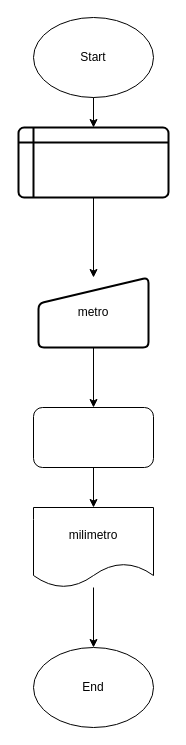
Image size: 186x745. Some labels were removed from this diagram. The centre of each missing label's shape, as x and y in pixels:
"metro, milimetro" goes at point (93, 162).
"milimetro = 1000 * metro" goes at point (93, 437).
